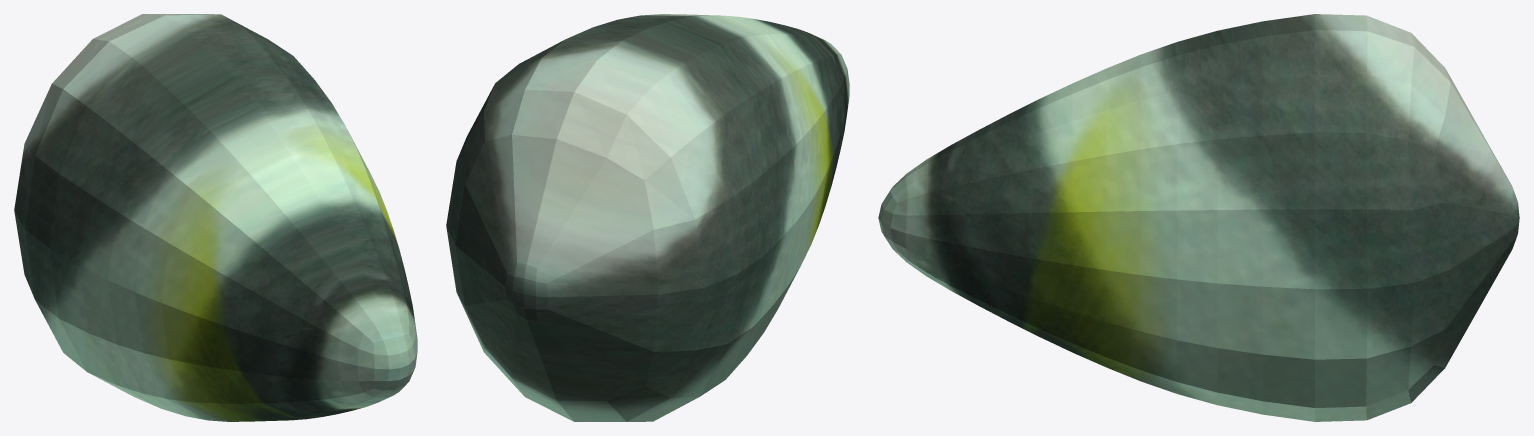
Rendered from Fish2_2.dae.
3 views of the same model, side by side, from view 1: azimuth 30°, elevation 25°; view 2: azimuth 150°, elevation 25°; view 3: azimuth 270°, elevation 25° (orthographic). The views are drawn at different scales.
Parts seen in each view (by area): view 1: Cube; view 2: Cube; view 3: Cube.
Part boxes in pixels (bbox=[...]): Cube: bbox=[14, 14, 417, 421]; Cube: bbox=[446, 14, 849, 421]; Cube: bbox=[878, 14, 1519, 421].
Size of the model in its own units: 1.51 by 2.87 by 1.86.
1 material, 1 textured.
